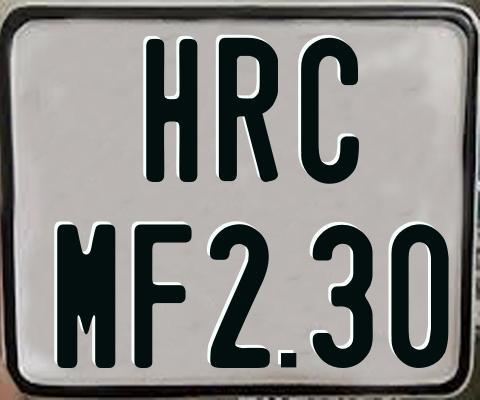0: (389, 223, 449, 369)
2: (207, 221, 273, 366)
3: (310, 224, 372, 368)
C: (298, 37, 356, 183)
F: (133, 224, 195, 370)
H: (145, 36, 199, 184)
M: (54, 222, 112, 365)
R: (216, 37, 276, 187)
